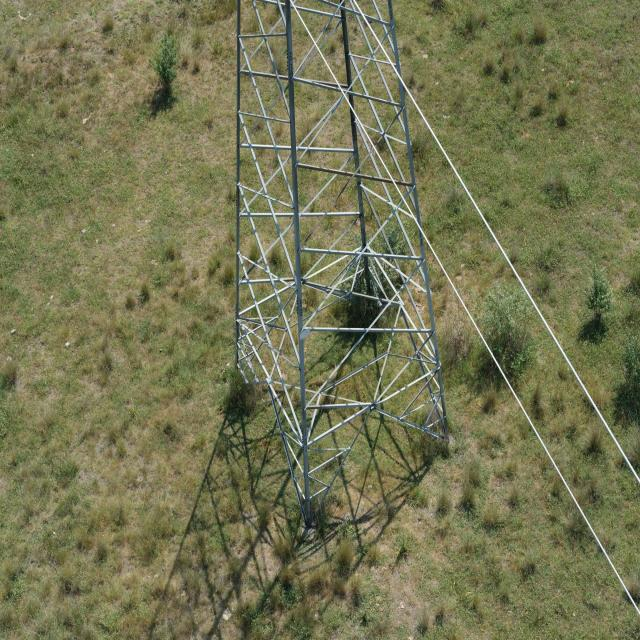direk: (218, 4, 462, 553)
